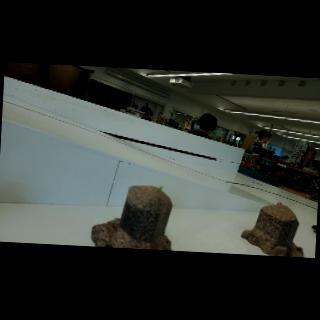teletubby: (276, 202, 282, 205), (159, 186, 163, 190)
